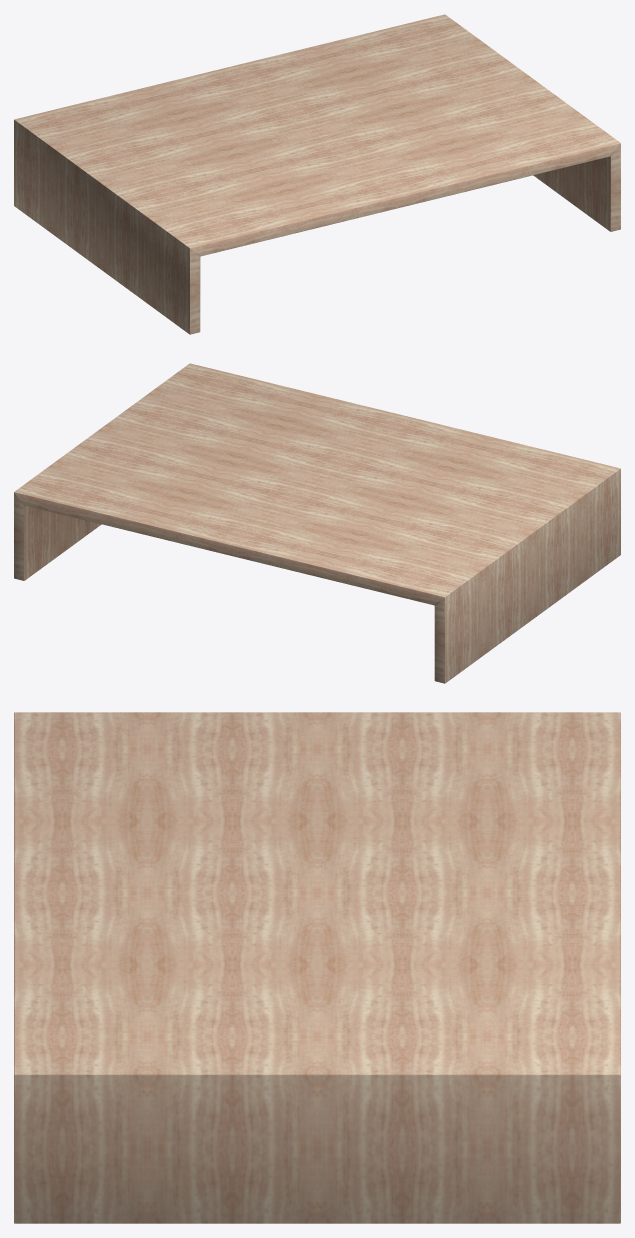
Rendered from raw_model.obj.
3 renders of one model, top to bottom at view 1: azimuth 30°, elevation 25°; view 2: azimuth 150°, elevation 25°; view 3: azimuth 270°, elevation 25°, orthographic. The views are drawn at different scales.
Visible parts, largest first — view 1: solid; view 2: solid; view 3: solid.
Boxes of the visible parts, box(x1,y1,x2,y2) form: solid: box(14, 14, 620, 334); solid: box(14, 363, 620, 683); solid: box(14, 712, 620, 1223).
Bounding box in the file's own units: 1.92 × 0.3691 × 1.36.
1 material, 1 textured.
